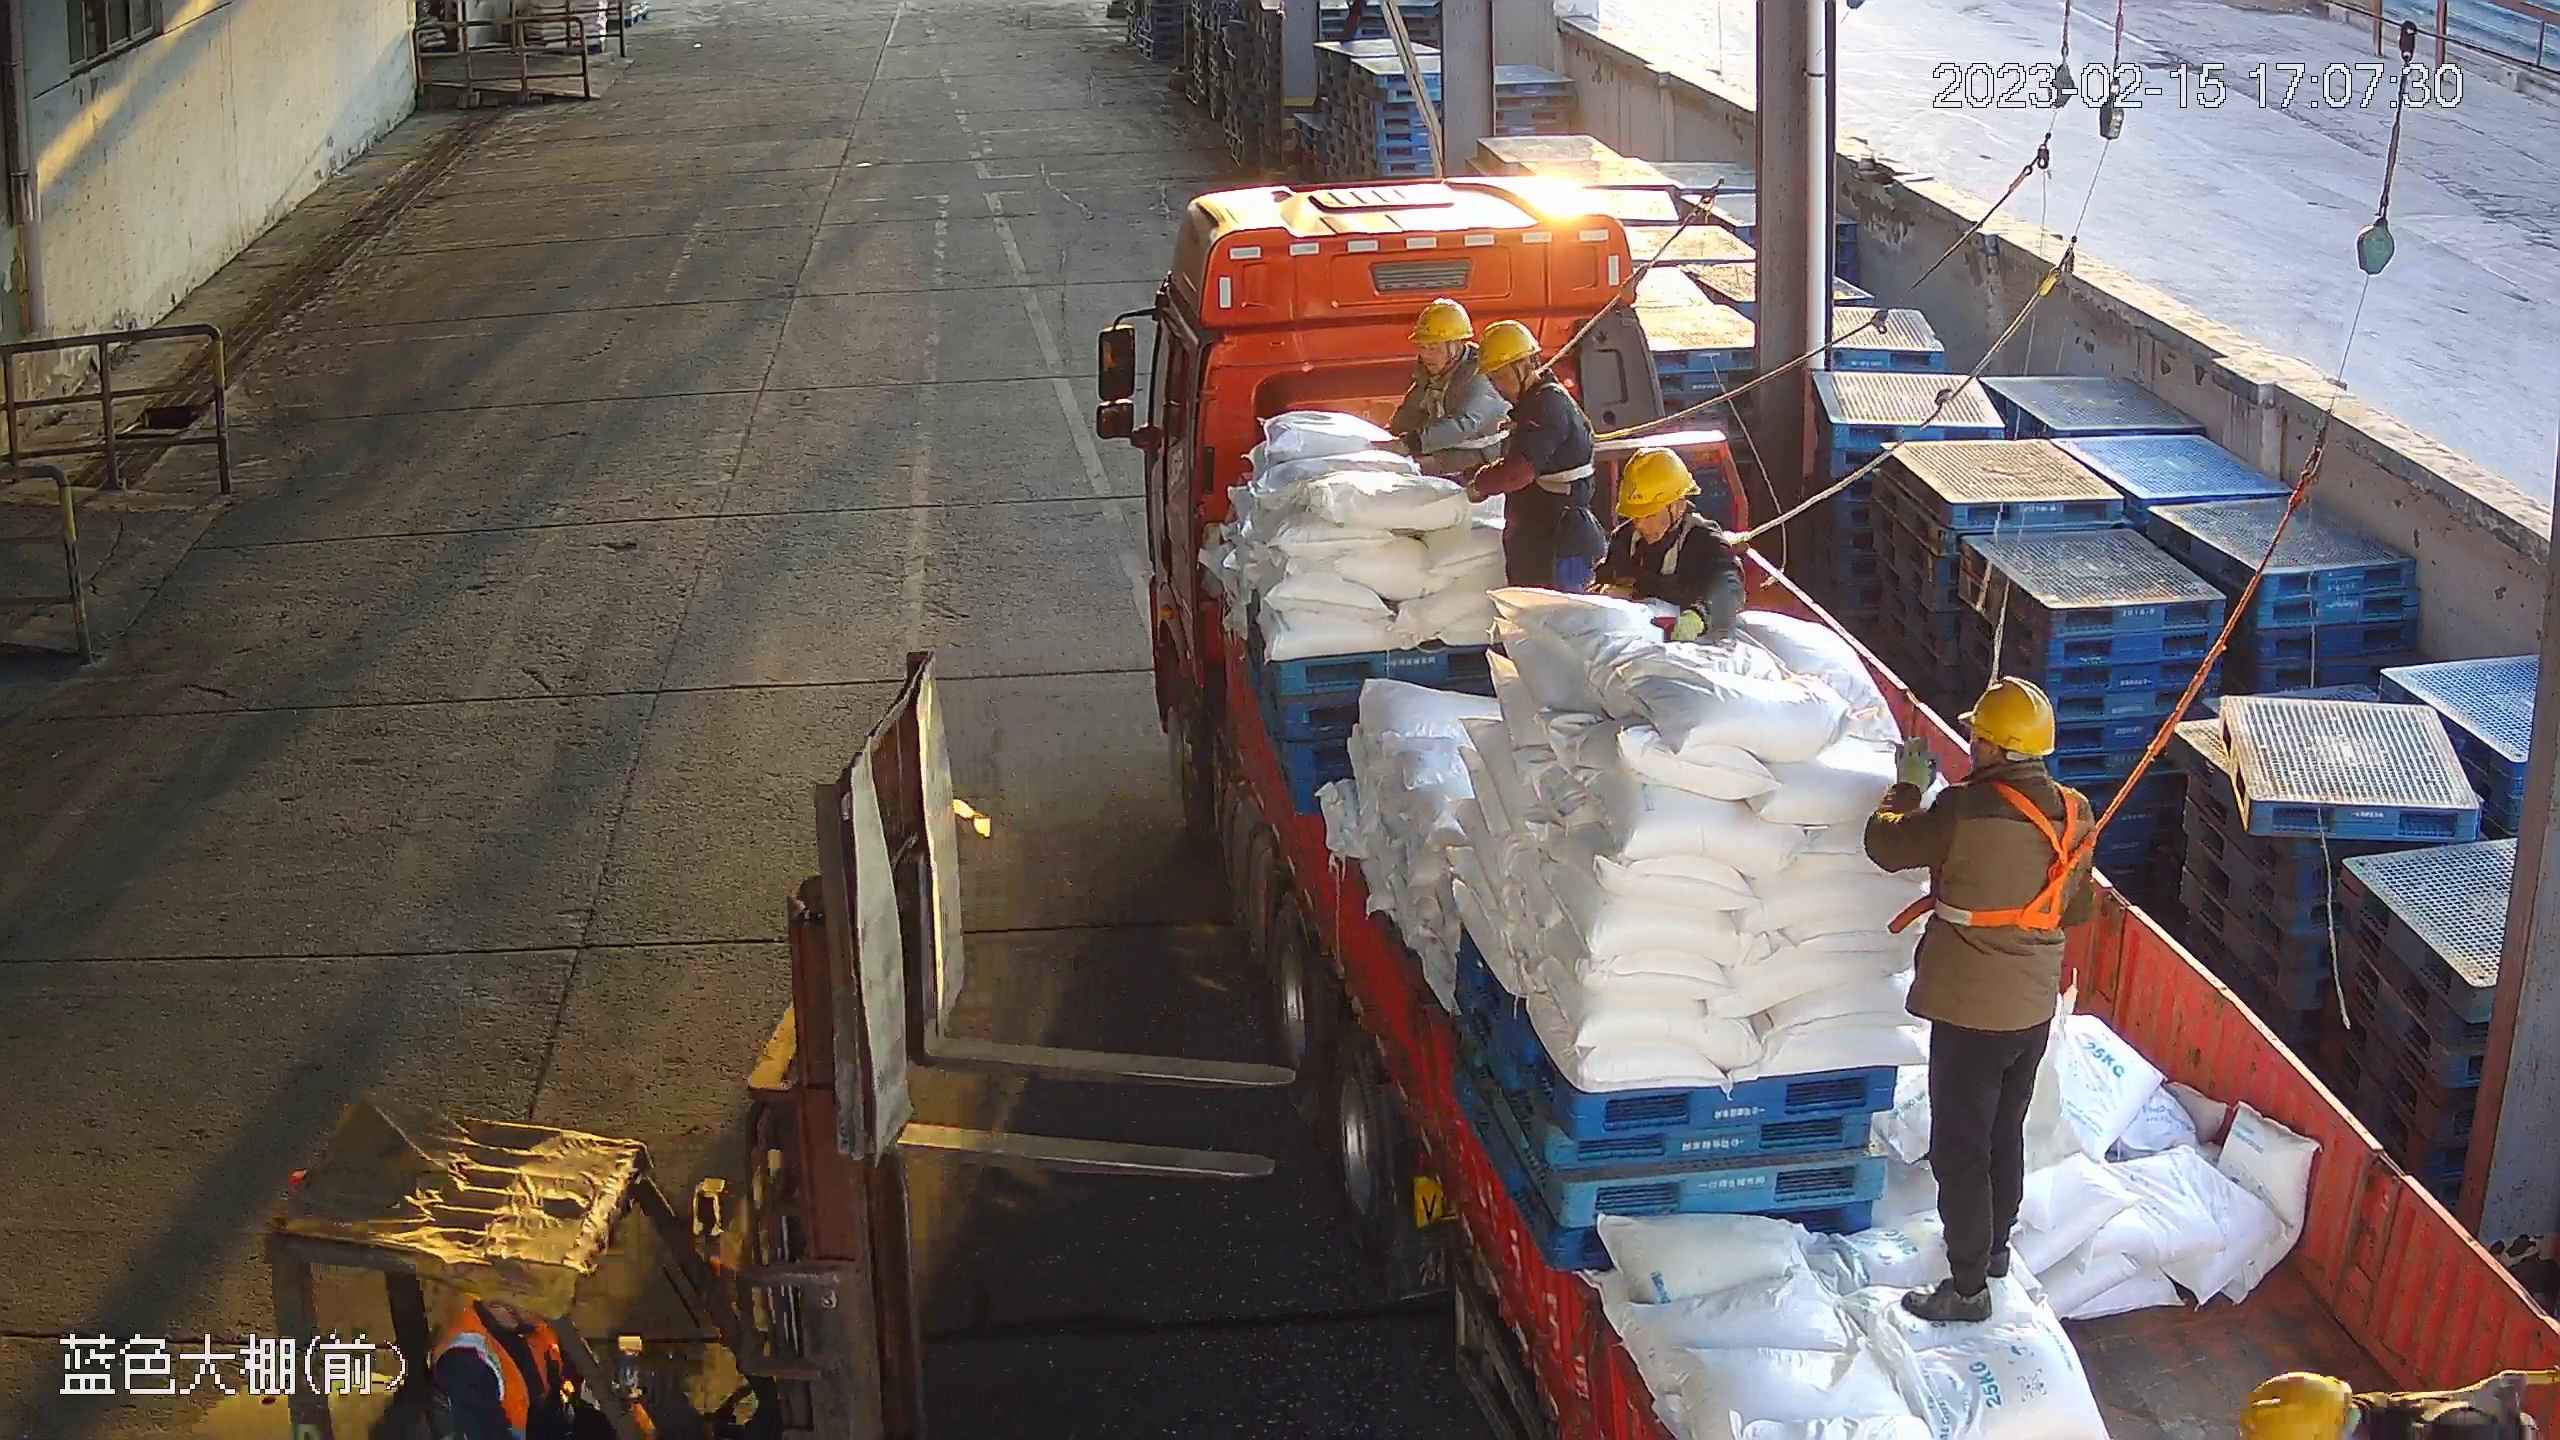belt: (1944, 771, 2100, 952), (1618, 518, 1764, 593), (2391, 1379, 2498, 1427), (1418, 373, 1463, 425)
head: (1867, 672, 2101, 869), (1605, 454, 1744, 603), (1466, 315, 1595, 462), (1395, 296, 1505, 440)
helmet: (1959, 676, 2057, 764), (2234, 1369, 2352, 1440), (1612, 450, 1700, 522), (1476, 320, 1540, 374), (1409, 299, 1474, 342)
people: (1867, 676, 2108, 1325), (1467, 317, 1605, 598)
truck: (1088, 166, 2554, 1440)
